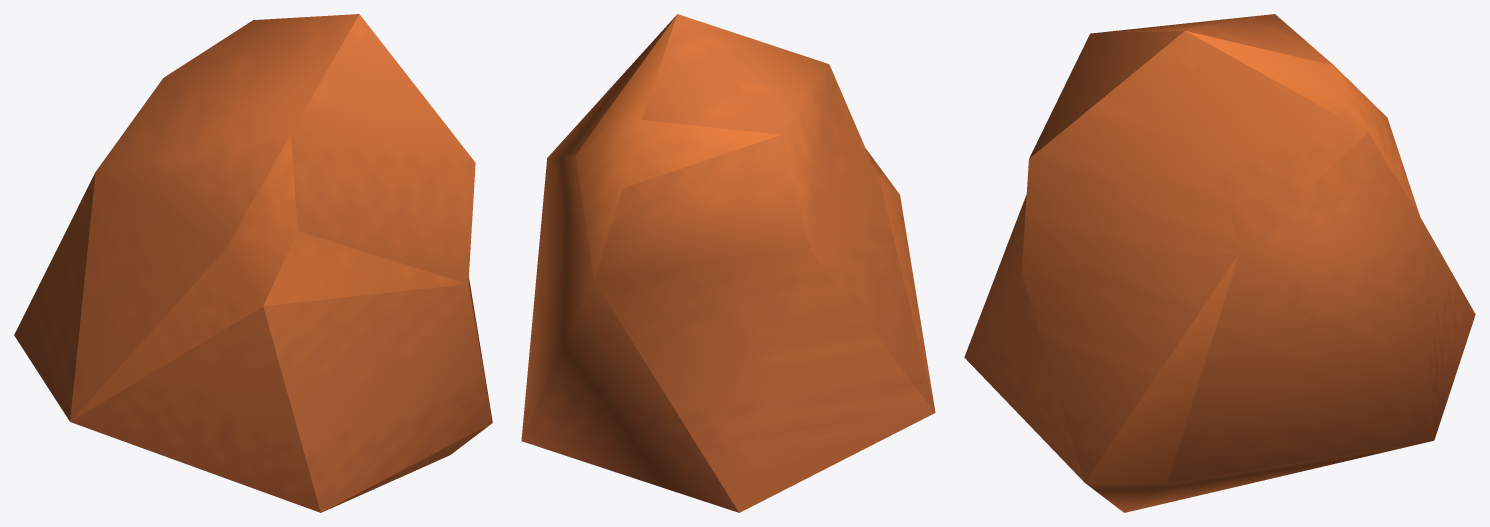
Rendered from Copper_Nugget_Medium.gltf.
3 views of the same model, side by side, from view 1: azimuth 30°, elevation 25°; view 2: azimuth 150°, elevation 25°; view 3: azimuth 270°, elevation 25° (orthographic). The views are drawn at different scales.
Parts seen in each view (by area): view 1: Copper_Nugget_Medium; view 2: Copper_Nugget_Medium; view 3: Copper_Nugget_Medium.
Part boxes in pixels (bbox=[...]): Copper_Nugget_Medium: bbox=[14, 14, 492, 512]; Copper_Nugget_Medium: bbox=[521, 14, 935, 512]; Copper_Nugget_Medium: bbox=[964, 14, 1475, 512].
Bounding box in the file's own units: 0.2589 × 0.2781 × 0.2819.
Materials: 1 (1 with a texture image).
